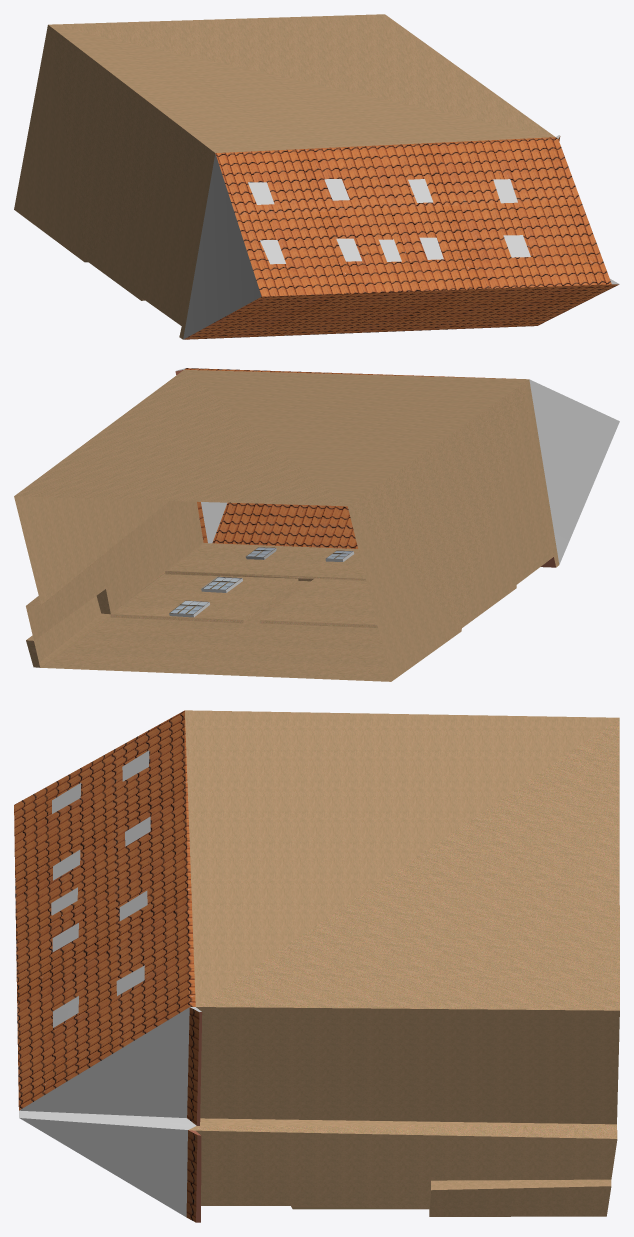
File: Vene_25a.obj
3 views of the same model, one above another, from view 1: azimuth 30°, elevation 25°; view 2: azimuth 150°, elevation 25°; view 3: azimuth 270°, elevation 25° (orthographic). The views are drawn at different scales.
Parts seen in each view (by area): view 1: Vene_25a; view 2: Vene_25a; view 3: Vene_25a.
Part boxes in pixels (<box>): Vene_25a: <box>14,14,619,339</box>; Vene_25a: <box>14,368,619,681</box>; Vene_25a: <box>14,710,619,1222</box>.
Bounding box in the file's own units: 21.09 × 13.34 × 23.37.
